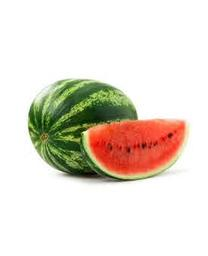watermelon: (26, 76, 138, 178), (82, 118, 191, 180)
